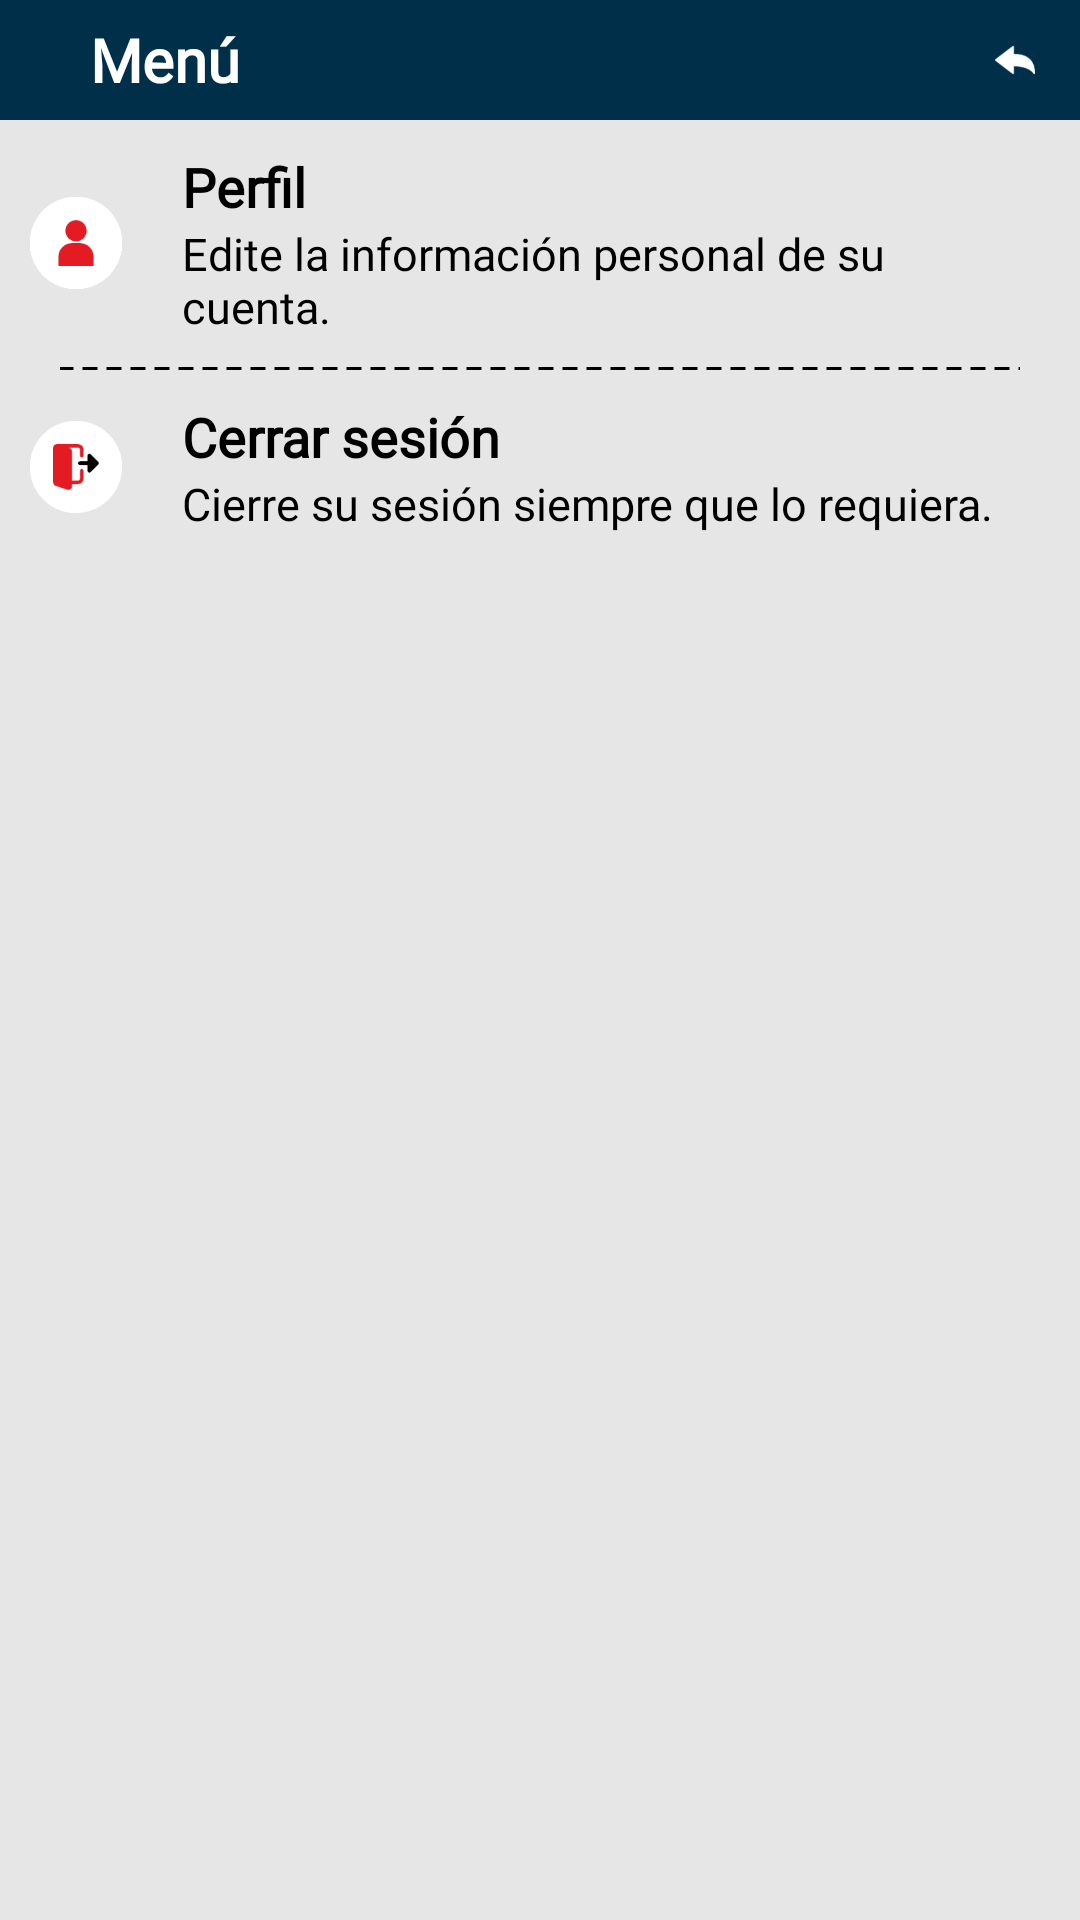

Where icons sit on this 1080 x 1920 app screen, as BBox(x1, y1, x2, y2):
back: BBox(995, 46, 1035, 74)
user: BBox(30, 197, 122, 289)
